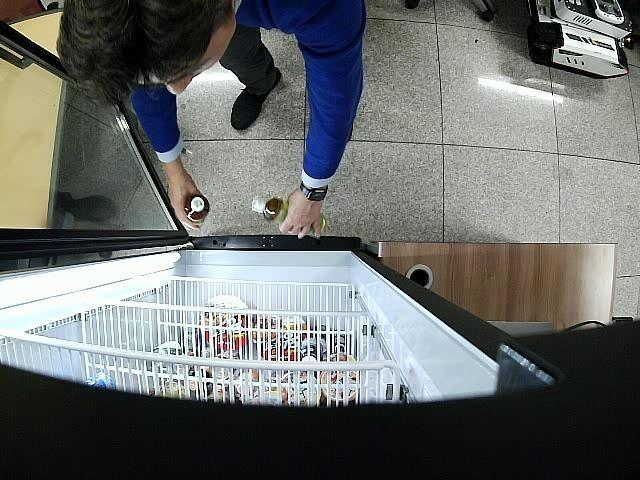19_17cha: (252, 197, 326, 238), (184, 193, 212, 223)
